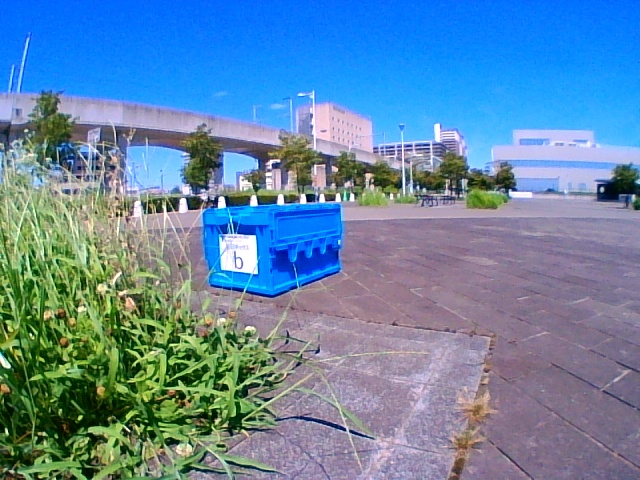blue_box: (210, 209, 313, 282)
tag_b: (220, 235, 258, 271)
